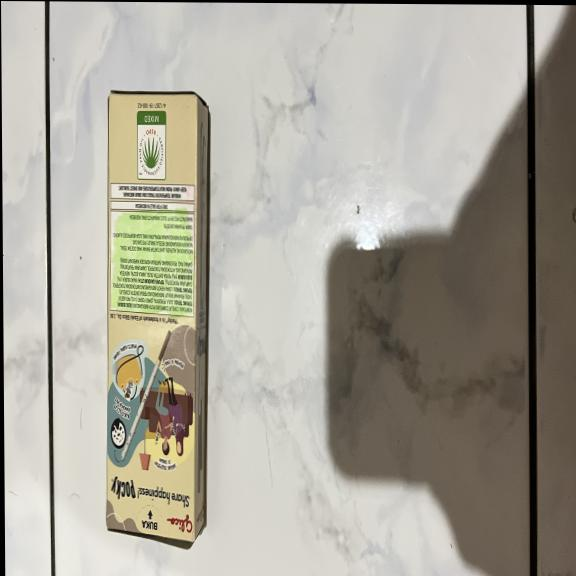Kertas: (106, 89, 196, 539)
